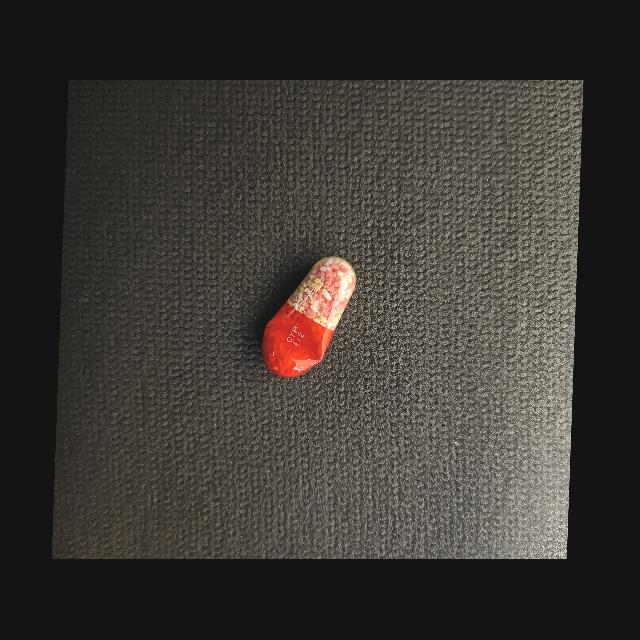Defective Capsule: (262, 257, 356, 378)
